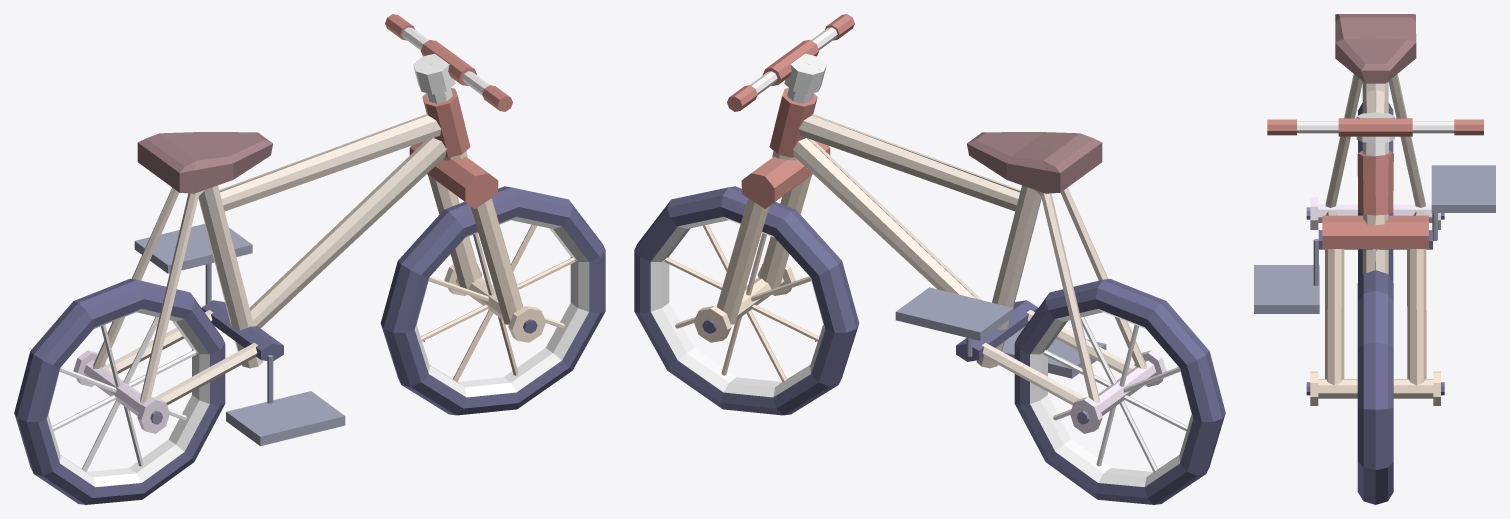
The model's file is Bike.fbx.
3 views of the same model, side by side, from view 1: azimuth 30°, elevation 25°; view 2: azimuth 150°, elevation 25°; view 3: azimuth 270°, elevation 25° (orthographic). The views are drawn at different scales.
Visible parts, largest first — view 1: Back part, Front wheel, Back wheel, Front part, Pedals childR, Pedals childL, Pedals; view 2: Back part, Front wheel, Back wheel, Front part, Pedals childL, Pedals, Pedals childR; view 3: Front part, Back part, Front wheel, Pedals childR, Pedals childL, Pedals, Back wheel.
Part boxes in pixels (x1,y1,x2,y2): Back part: (73, 114, 447, 433); Front wheel: (380, 186, 605, 415); Back wheel: (14, 278, 225, 504); Front part: (385, 14, 546, 342); Pedals childR: (226, 391, 345, 446); Pedals childL: (134, 224, 252, 273); Pedals: (201, 263, 283, 403); Back part: (792, 114, 1166, 433); Front wheel: (634, 186, 859, 415); Back wheel: (1014, 278, 1225, 504); Front part: (693, 14, 854, 342); Pedals childL: (895, 287, 1013, 340); Pedals: (956, 300, 1038, 361); Pedals childR: (1002, 326, 1106, 378); Front part: (1267, 112, 1483, 405); Back part: (1306, 14, 1444, 274); Front wheel: (1357, 270, 1393, 504); Pedals childR: (1254, 265, 1319, 313); Pedals childL: (1431, 165, 1495, 212); Pedals: (1313, 213, 1437, 285); Back wheel: (1358, 103, 1393, 282).
Bounding box in the file's own units: 437 × 264 × 163.
